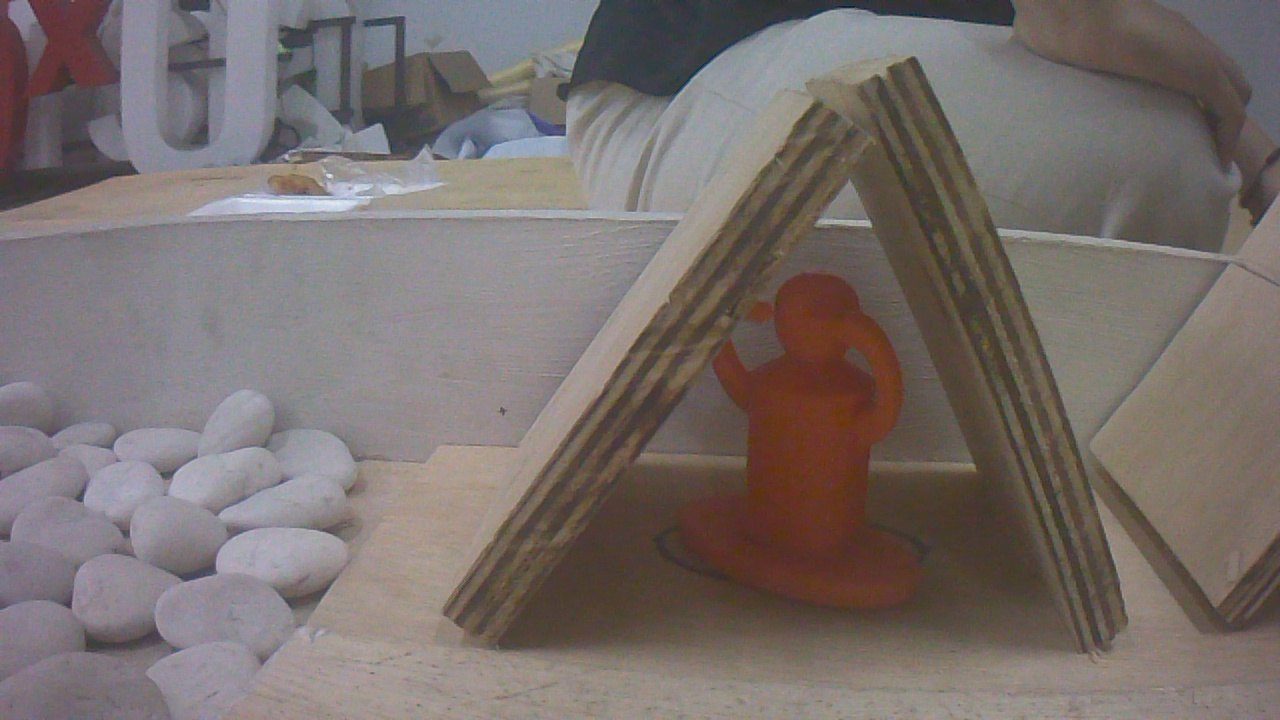real: (705, 272, 916, 603)
